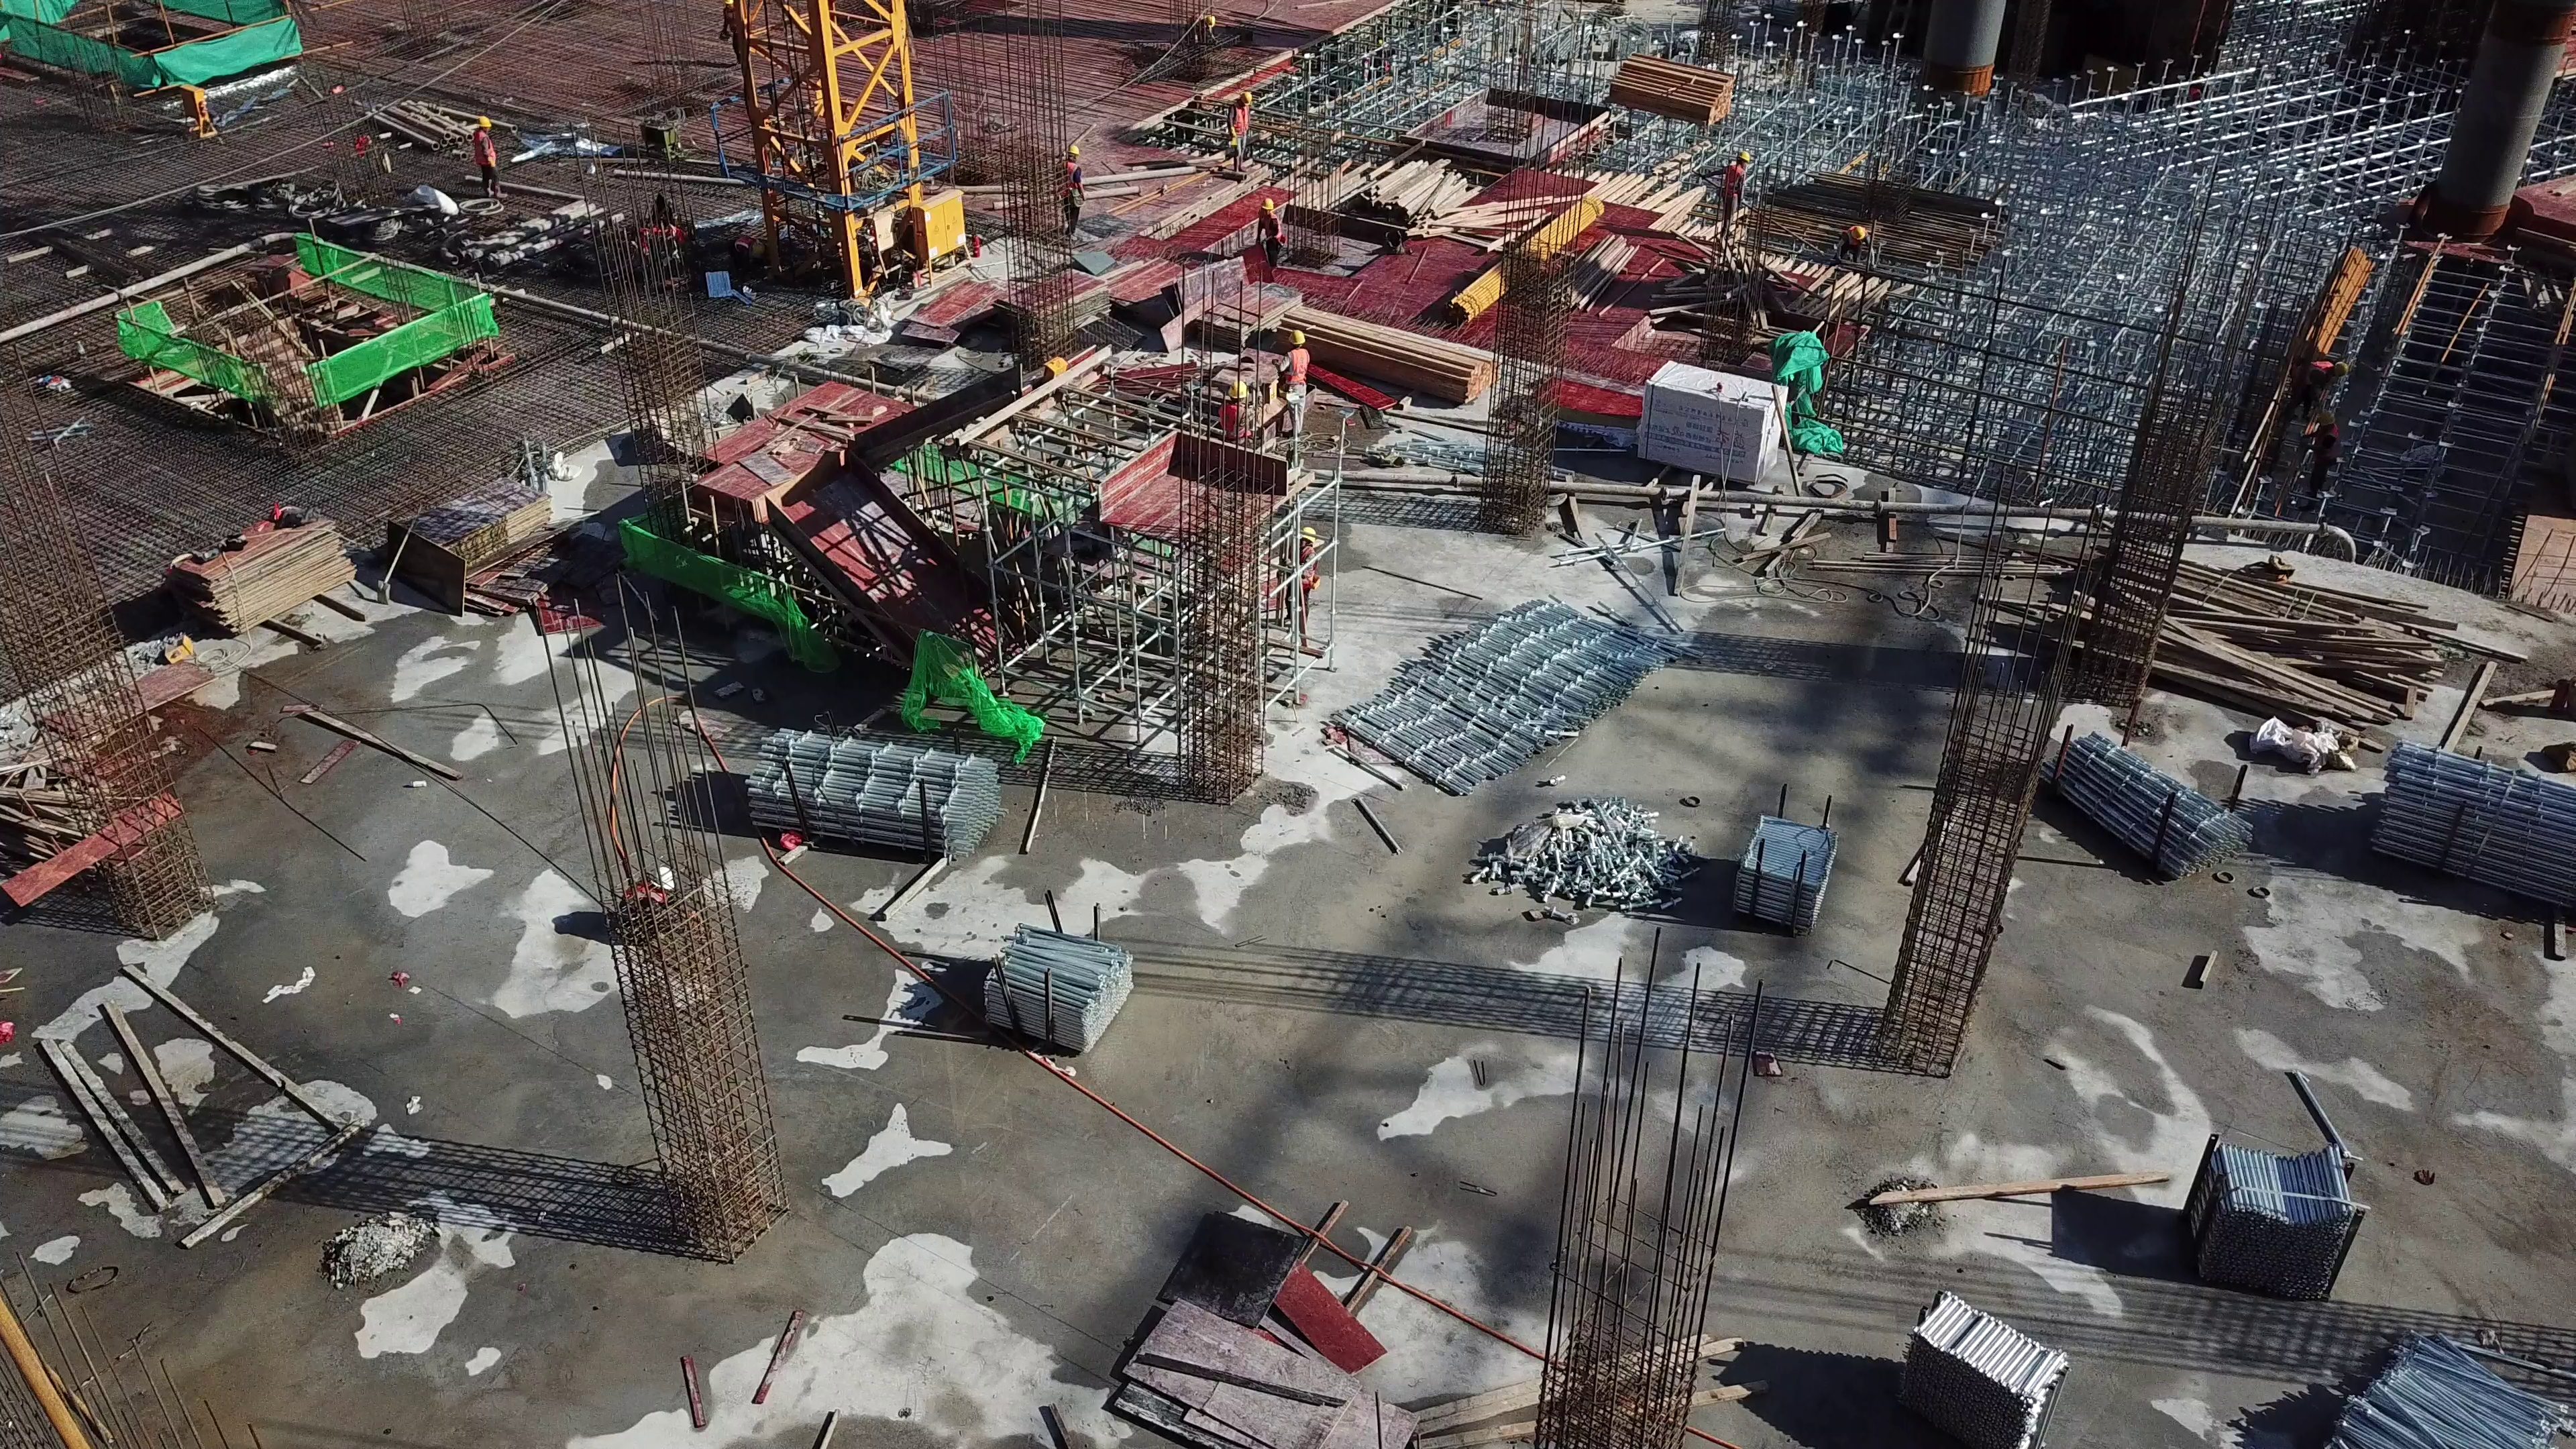board: (157, 506, 370, 640), (390, 485, 563, 619)
person: (1035, 234, 1280, 418), (1225, 85, 1260, 179), (1712, 150, 1750, 237), (466, 115, 498, 214), (1254, 199, 1283, 281)
scaffold: (1330, 604, 1668, 786), (1481, 800, 1855, 934), (2033, 733, 2249, 900), (2377, 747, 2575, 926), (1887, 1281, 2063, 1449), (2310, 1340, 2576, 1438), (767, 730, 983, 847), (2196, 1136, 2357, 1287), (989, 928, 1123, 1063)
wood: (2024, 541, 2447, 751), (1280, 305, 1502, 409), (1318, 162, 1525, 243)
